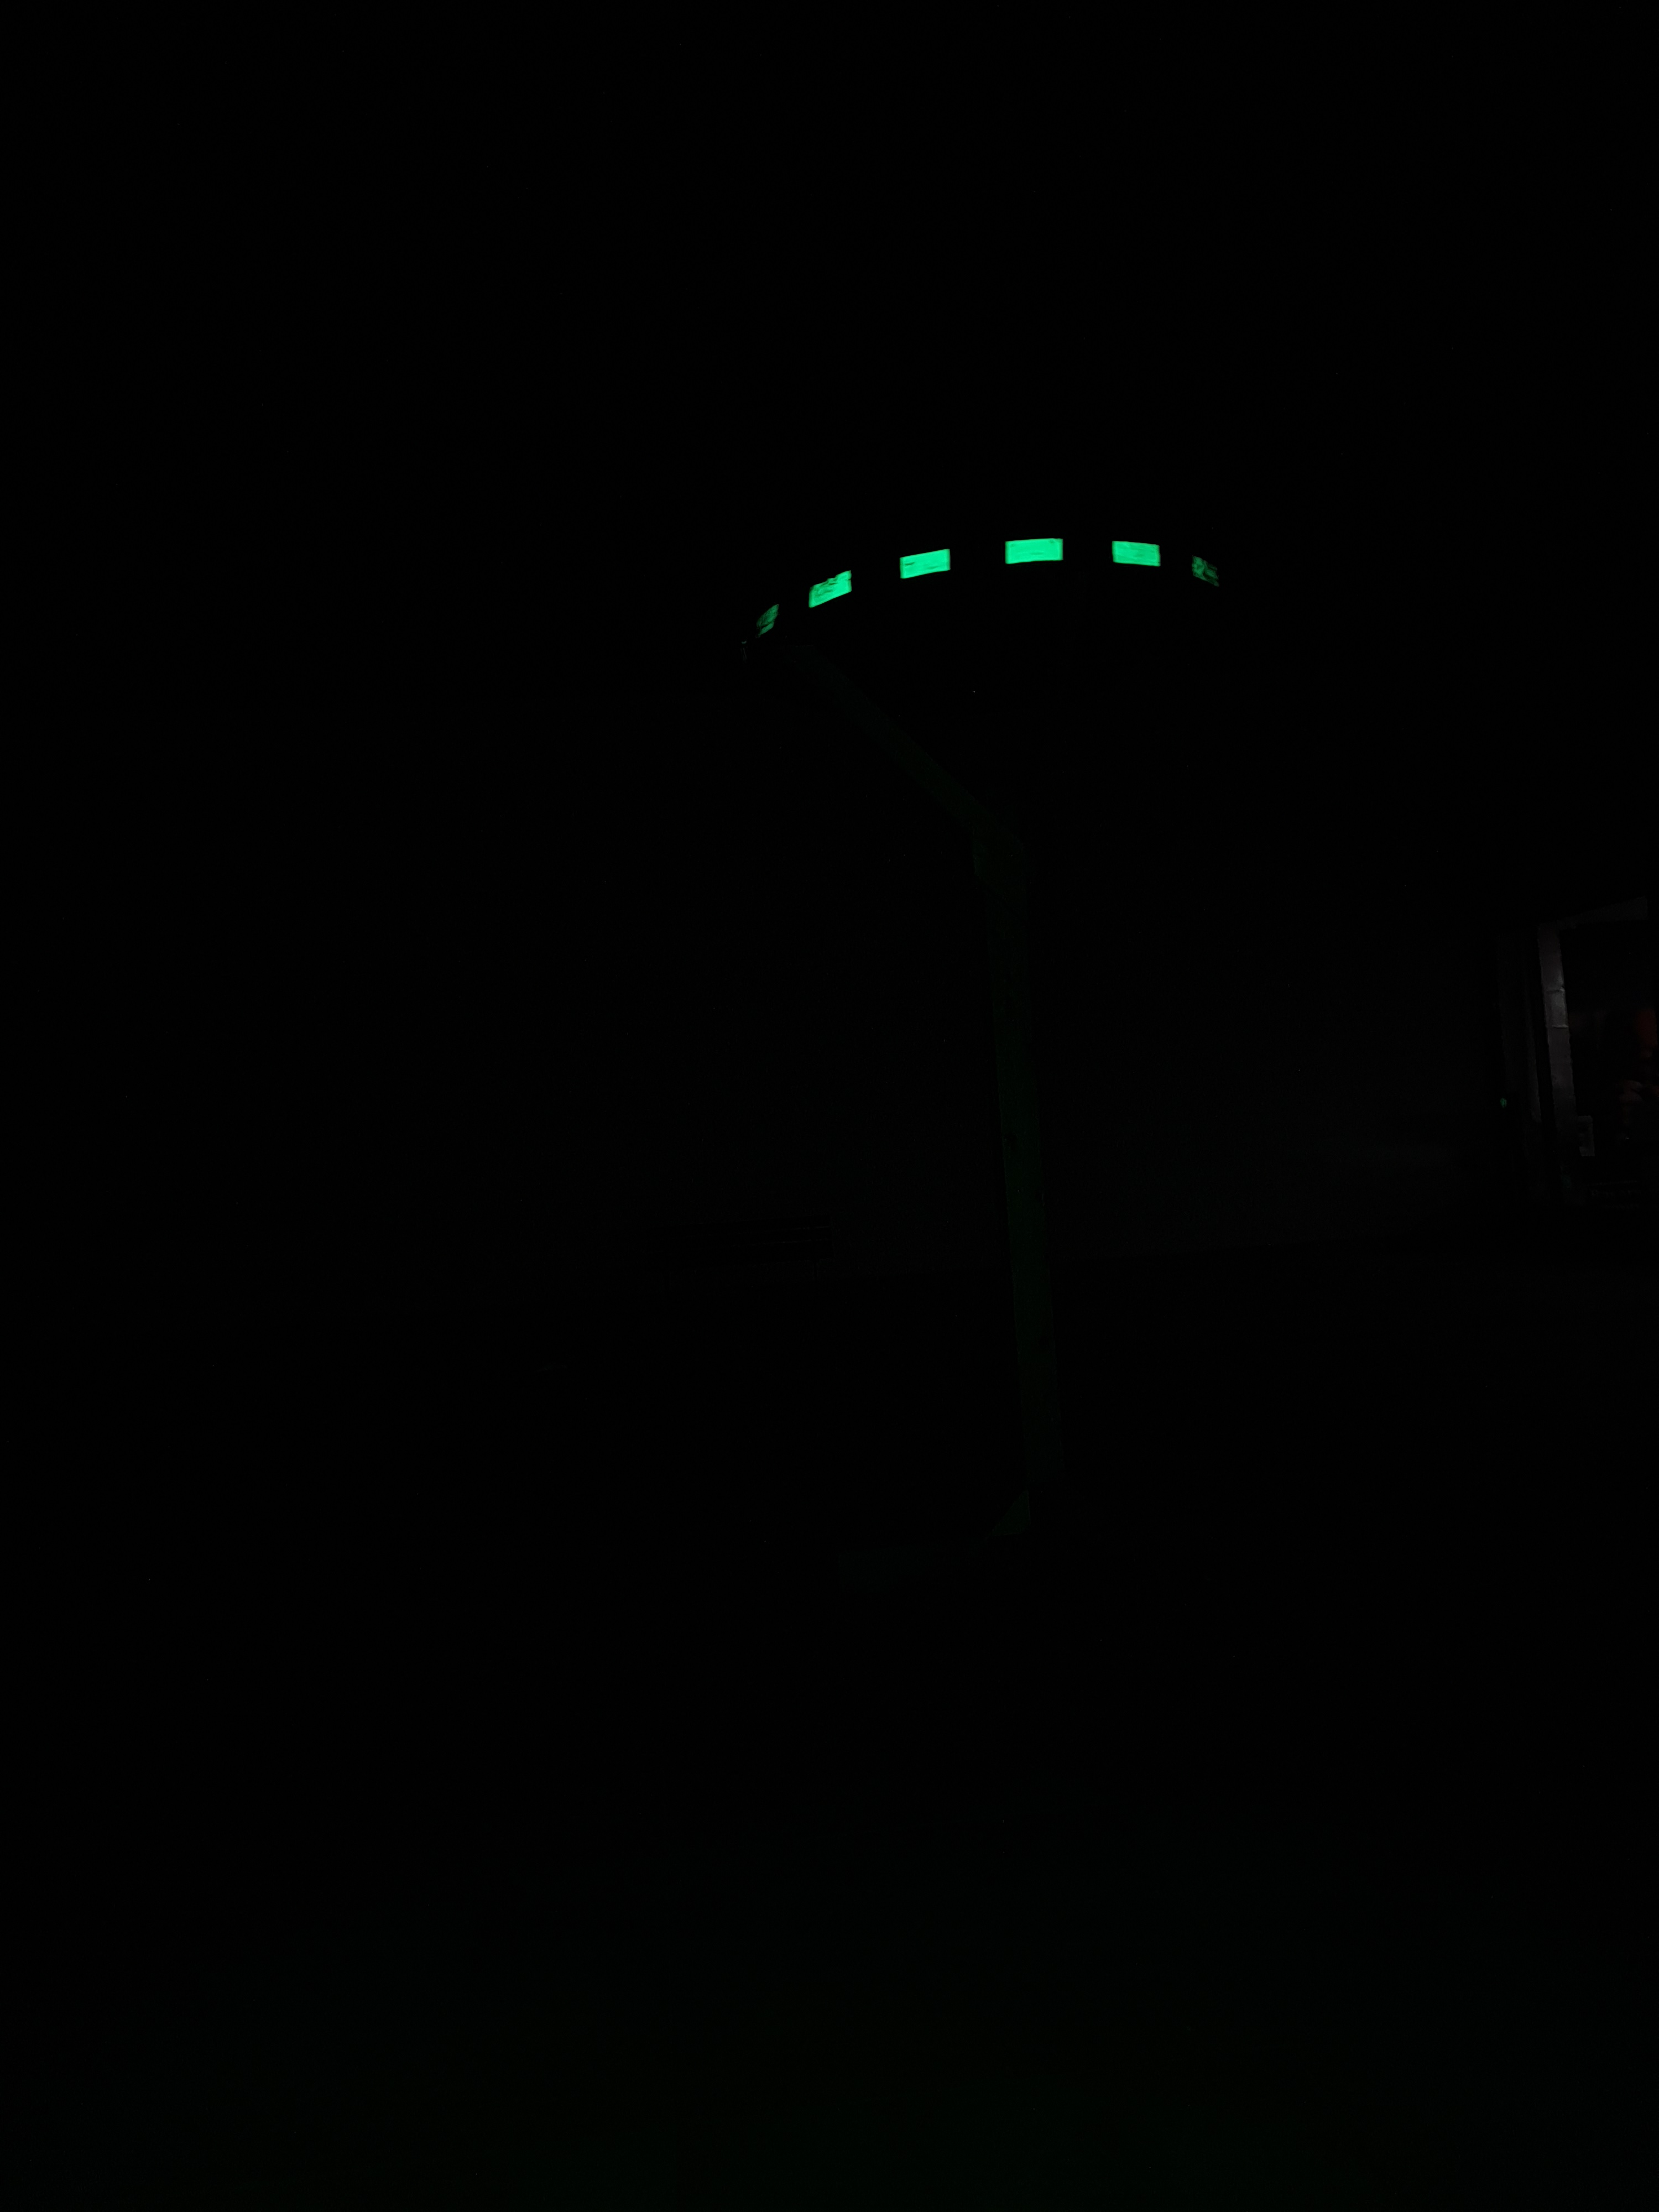hoop: (711, 528, 1249, 657)
